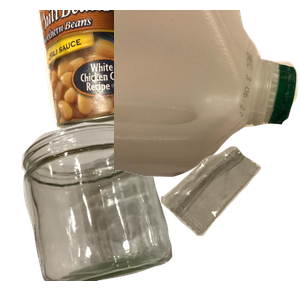glass: (19, 120, 184, 300)
metal: (34, 10, 213, 135)
plastic: (114, 10, 300, 179)
trash: (158, 144, 300, 300)
